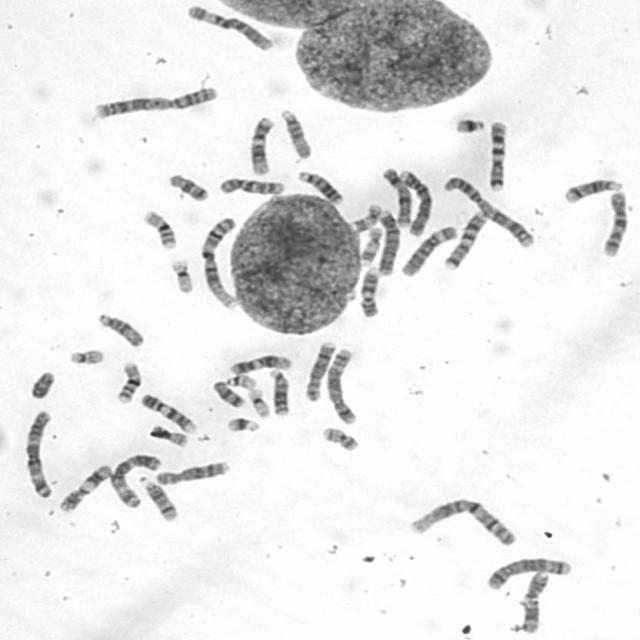A1: (407, 494, 519, 548), (196, 212, 241, 312)
A2: (440, 173, 536, 249), (90, 80, 219, 121)
A3: (108, 451, 163, 509), (21, 407, 55, 500)
B4: (394, 167, 434, 235), (374, 207, 401, 276)
B5: (484, 555, 574, 591), (325, 345, 359, 425)
C10: (598, 188, 630, 258), (216, 175, 286, 196)
C11: (54, 461, 114, 513), (520, 570, 551, 634)
C12: (246, 114, 276, 177), (227, 352, 294, 376)
C6: (182, 2, 276, 52), (398, 224, 458, 277)
C7: (440, 208, 489, 271), (485, 118, 509, 193)
C8: (302, 338, 338, 403), (152, 458, 230, 487)
C9: (139, 391, 198, 434), (357, 263, 382, 319)
D13: (296, 168, 346, 206), (267, 368, 291, 417)
D14: (136, 475, 179, 522), (560, 175, 624, 205)
D15: (278, 105, 314, 162), (96, 310, 146, 349)
E16: (140, 207, 178, 251), (112, 359, 144, 405)
E17: (348, 201, 382, 233), (358, 225, 384, 266)
E18: (165, 170, 210, 203), (210, 378, 246, 408)
F19: (168, 256, 196, 295), (246, 385, 272, 418)
F20: (318, 424, 361, 452), (147, 422, 191, 448)
G21: (224, 415, 262, 434), (451, 114, 487, 134)
G22: (66, 345, 108, 367), (223, 371, 259, 390)
X: (379, 164, 414, 230)
Y: (25, 368, 58, 400)
